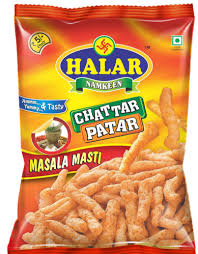plastic: (13, 7, 198, 251)
